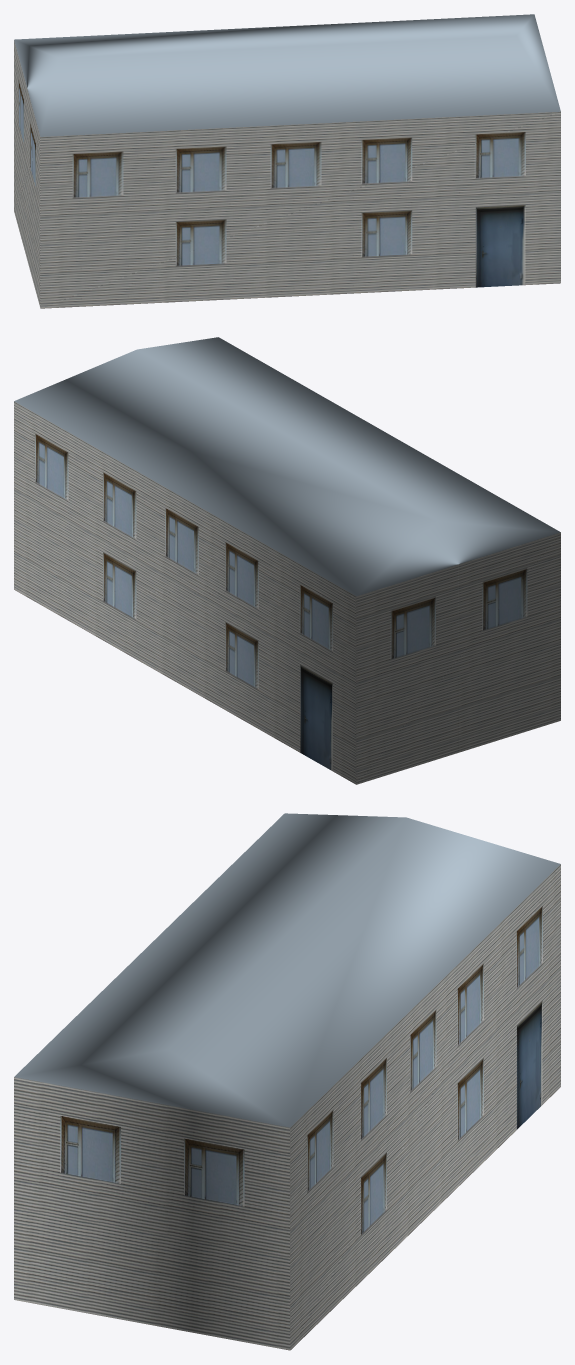
Rendered from lp-building8.fbx.
The picture shows the model from 3 angles, top to bottom: view 1: azimuth 30°, elevation 25°; view 2: azimuth 150°, elevation 25°; view 3: azimuth 270°, elevation 25°; orthographic projection. The views are drawn at different scales.
Parts seen in each view (by area): view 1: 01houses.004; view 2: 01houses.004; view 3: 01houses.004.
Part boxes in pixels (<box>): 01houses.004: <box>14,14,560,308</box>; 01houses.004: <box>14,337,560,784</box>; 01houses.004: <box>14,813,560,1350</box>.
Size of the model in its own units: 714 by 276 by 525.
1 material, 1 textured.
